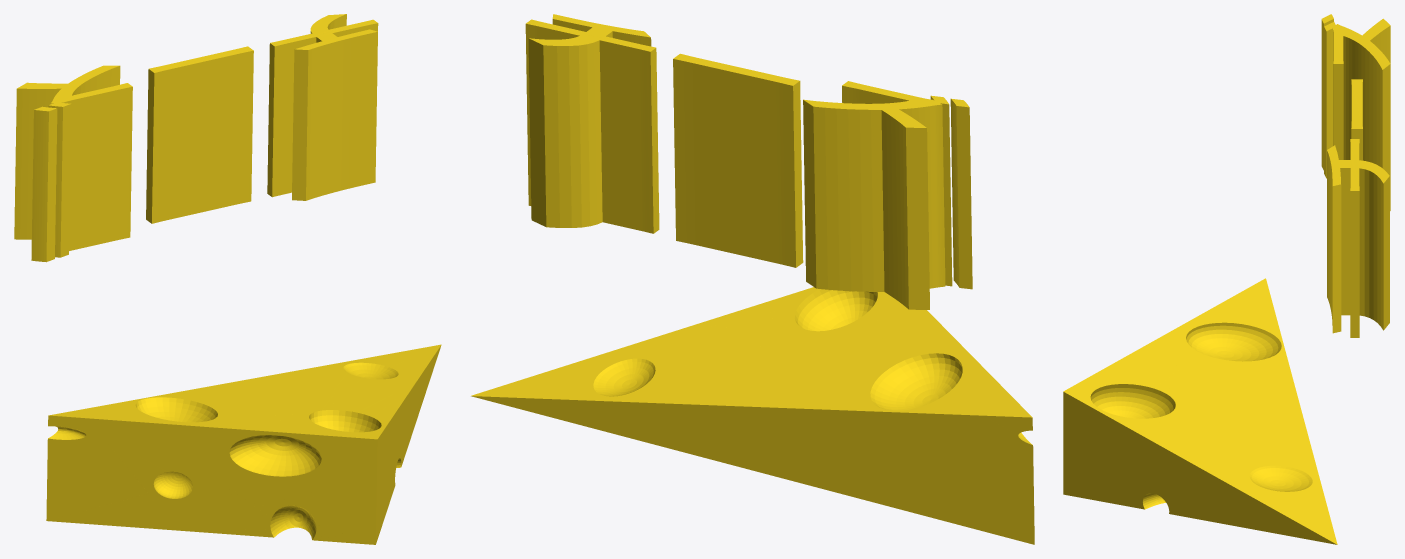
Rendered from tinker.obj.
The picture shows the model from 3 angles, left to right: view 1: azimuth 30°, elevation 25°; view 2: azimuth 150°, elevation 25°; view 3: azimuth 270°, elevation 25°; orthographic projection. The views are drawn at different scales.
Visible parts, largest first — view 1: obj_0; view 2: obj_0; view 3: obj_0.
Part boxes in pixels (x1,y1,x2,y2): obj_0: (14, 14, 441, 544); obj_0: (471, 14, 1034, 544); obj_0: (1063, 14, 1390, 544).
Bounding box in the file's own units: 30.06 × 25.69 × 20.
